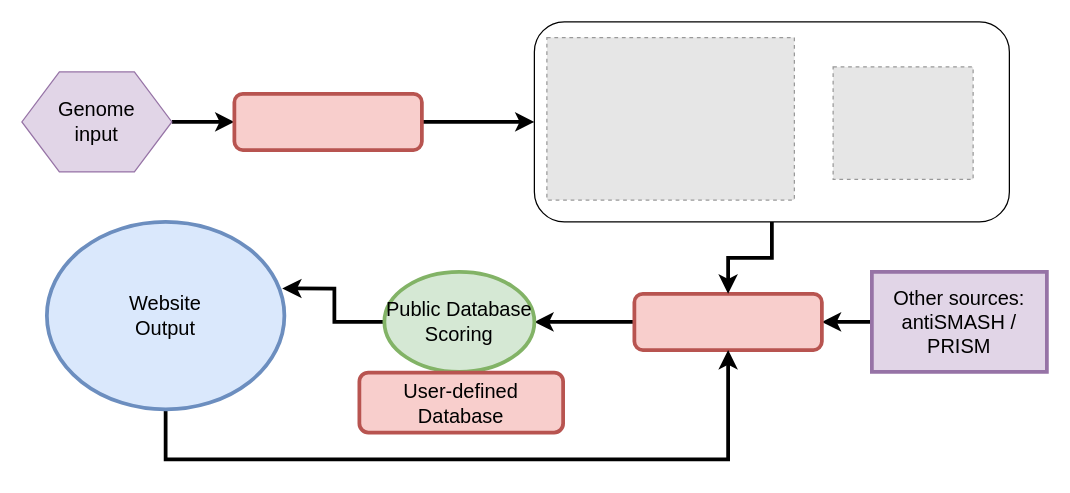
The diagram is 1070 pixels wide and 493 high, and some of its shapes have lost their labels. Grey dashed boxes stand in for pictures. The shapes that lost their labels are listed below. From the top down, each one's box as (x1, y1, x2, y2) in pixels, then its label:
(232, 91, 423, 151): SeMPI 2.0 prediction
(632, 291, 823, 351): Workbench
